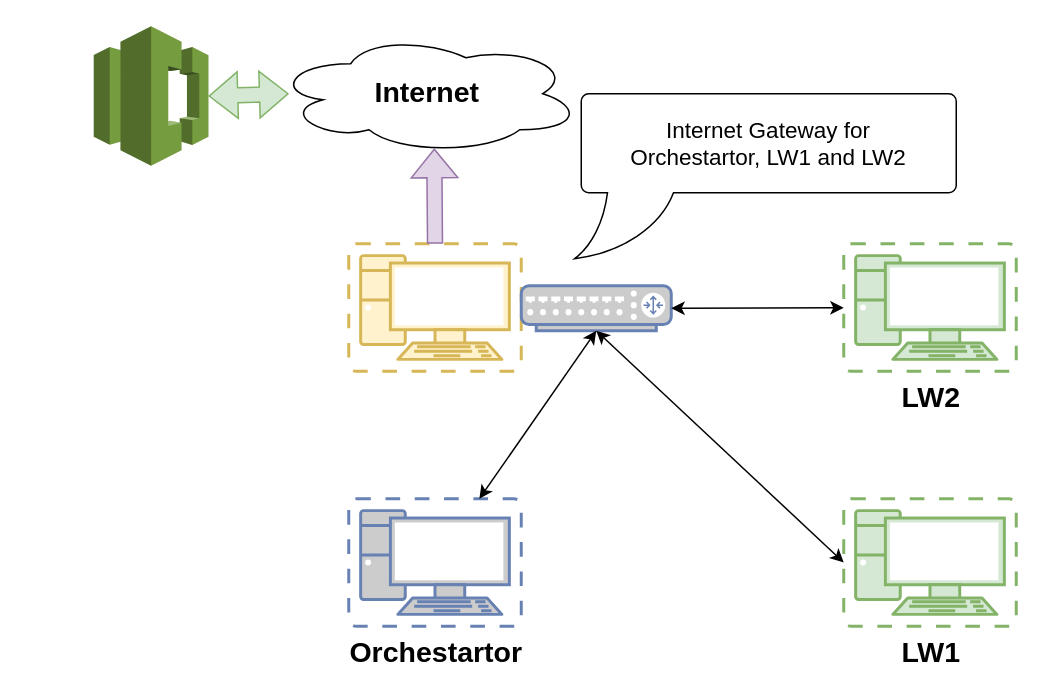
Some shapes in this 1044 by 698 pixel diagram are drawn without their labels. The centre of each missing label's shape, as x and y in pixels:
AWS CodeCommit: point (150, 95)
iSys: point (434, 307)
